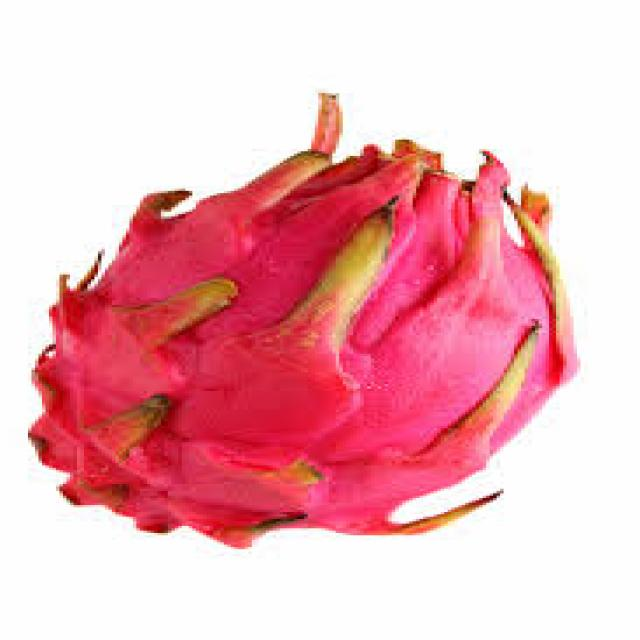organic waste: (25, 93, 584, 540)
